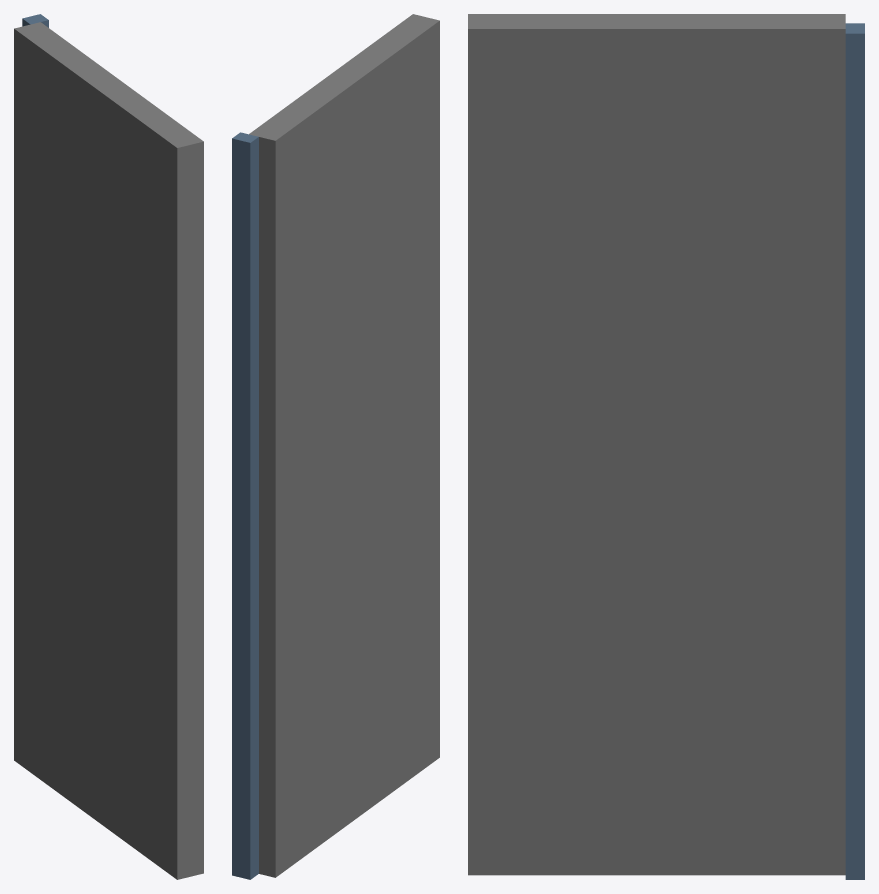
The model's file is SM_StairsrDoor1.FBX.
The picture shows the model from 3 angles, left to right: view 1: azimuth 30°, elevation 25°; view 2: azimuth 150°, elevation 25°; view 3: azimuth 270°, elevation 25°; orthographic projection. The views are drawn at different scales.
Visible parts, largest first — view 1: SM_StairsrDoor1; view 2: SM_StairsrDoor1; view 3: SM_StairsrDoor1.
Boxes of the visible parts, x1,y1,x2,y2 form: SM_StairsrDoor1: (14, 14, 203, 879); SM_StairsrDoor1: (232, 14, 439, 879); SM_StairsrDoor1: (468, 14, 864, 879).
Bounding box in the file's own units: 11.71 × 235 × 99.87.
